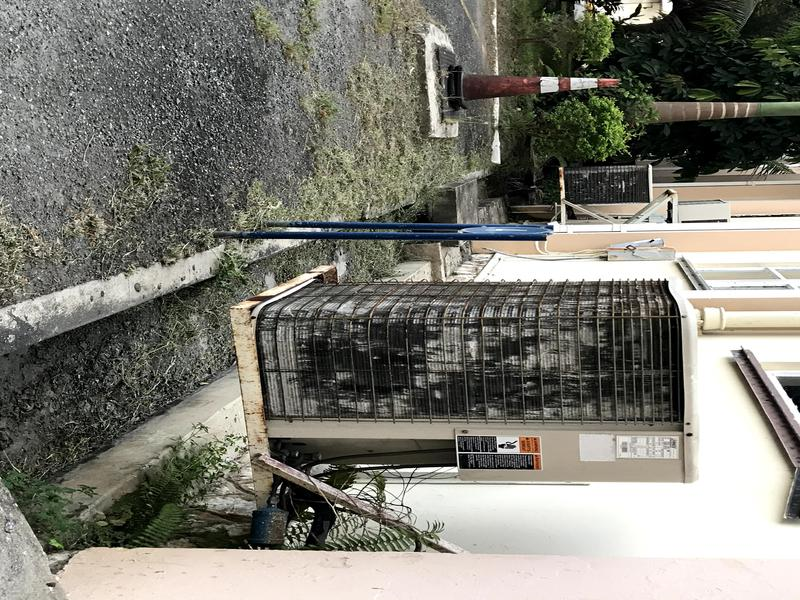18.0053530_-76.7490375_signatentrancetoscitech: (201, 194, 556, 268)
